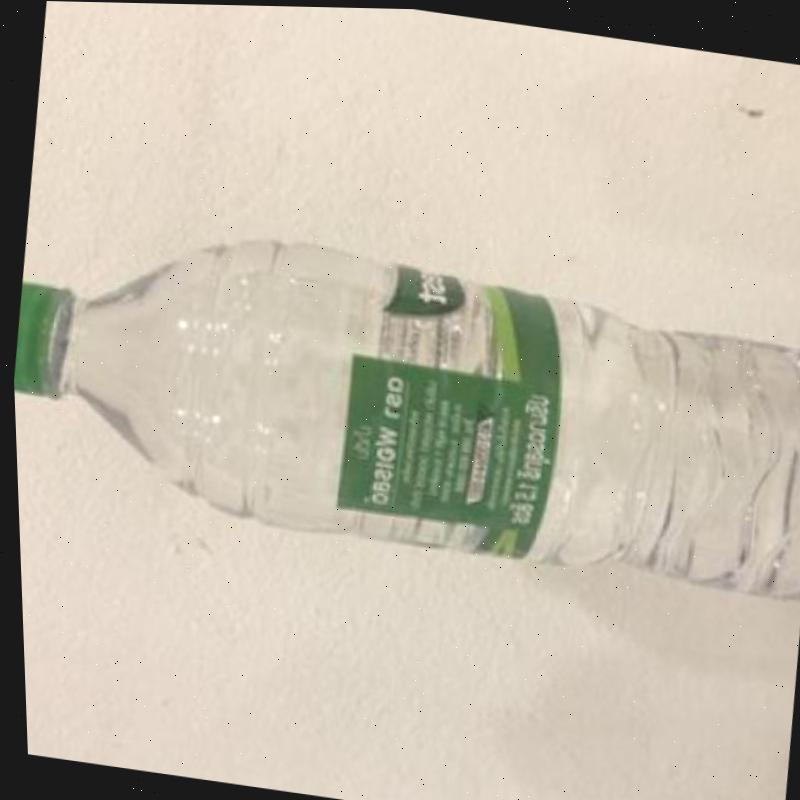botella: (6, 206, 800, 603)
